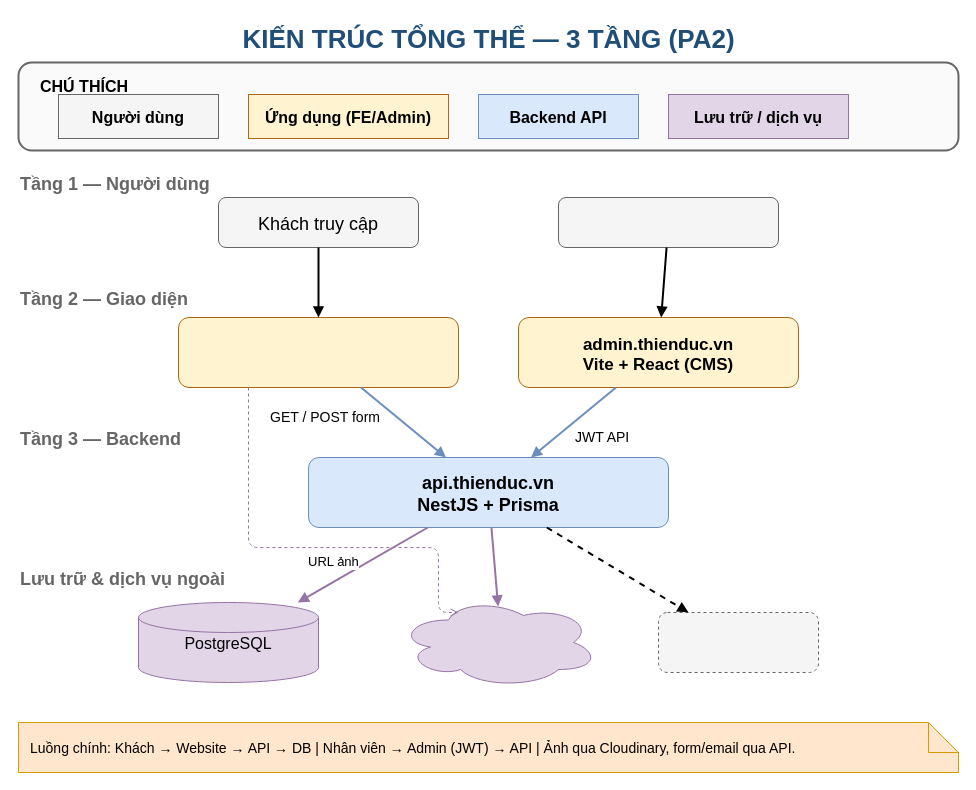
The diagram is 976 pixels wide and 790 high, and some of its shapes have lost their labels. The box of each missing label's shape, as (x1, y1, x2, y2) in pixels:
Cloudinary CDN: (398, 596, 598, 688)
Gmail SMTP: (658, 612, 818, 672)
Nhân viên nội dung: (558, 196, 778, 248)
thienduc.vn Next.js 16 + ISR: (178, 316, 458, 388)
